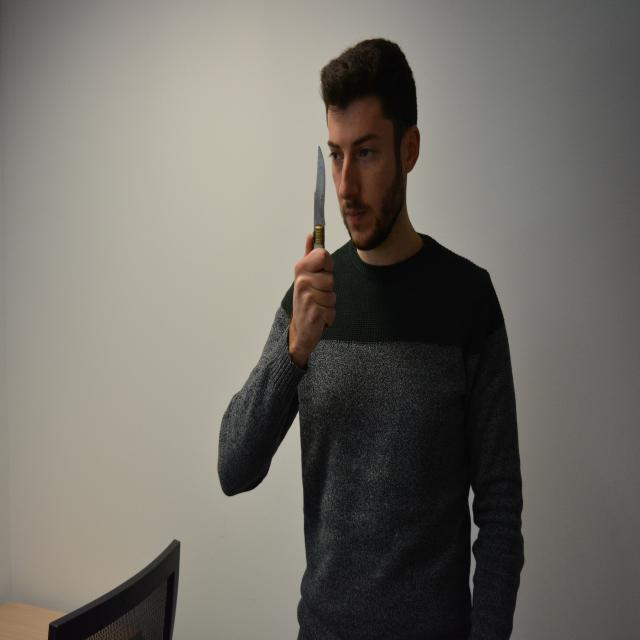knife: (314, 146, 329, 251)
